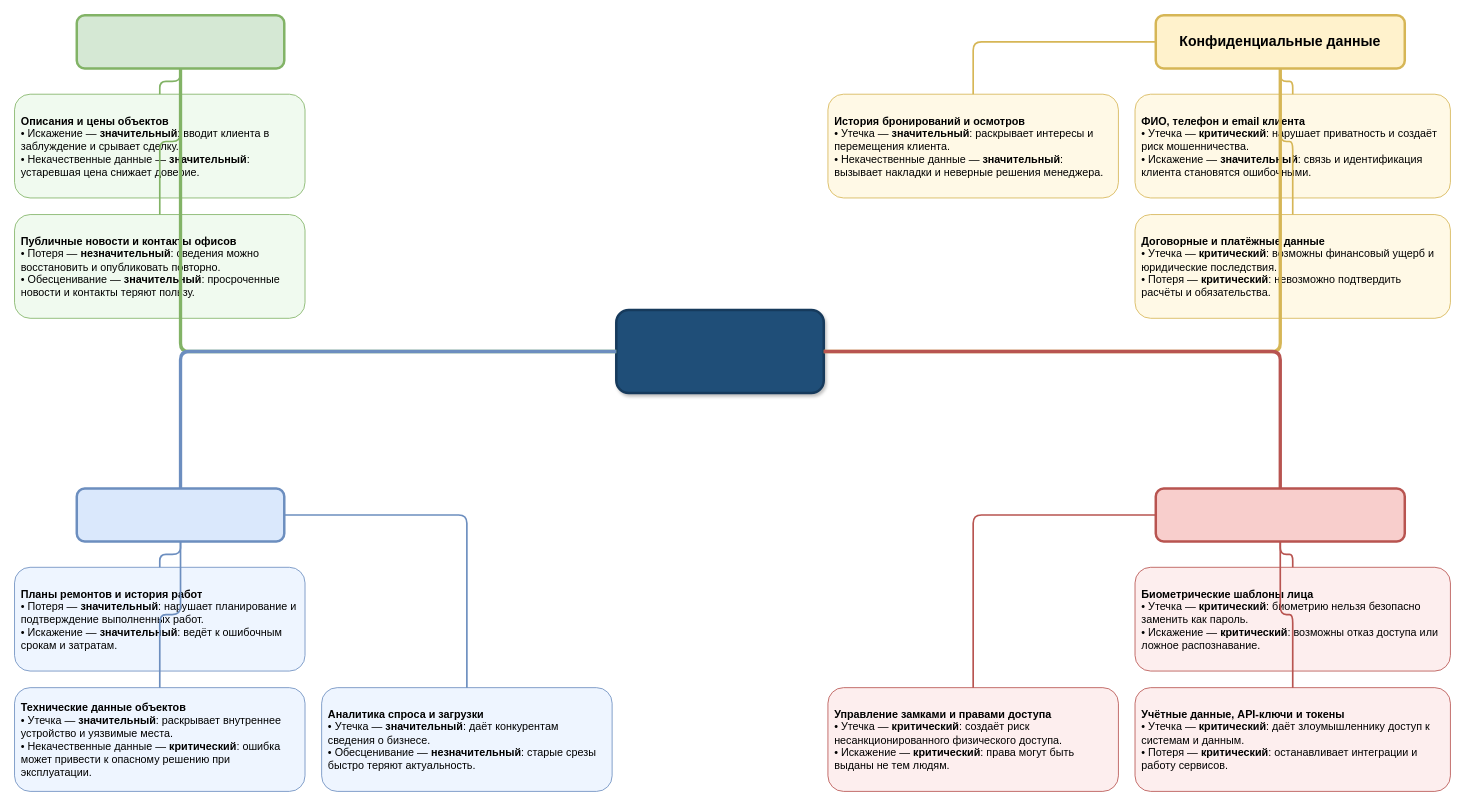
The diagram is 1465 pixels wide and 806 high, and some of its shapes have lost their labels. Here are the shapes that lost their labels. From the top down, the centre of each, then its label:
At (x=180, y=41): "Публичные данные".
At (x=720, y=352): "Безопасность данных PropDevelopment".
At (x=180, y=514): "Внутренние данные".
At (x=1280, y=514): "Секретные данные".
